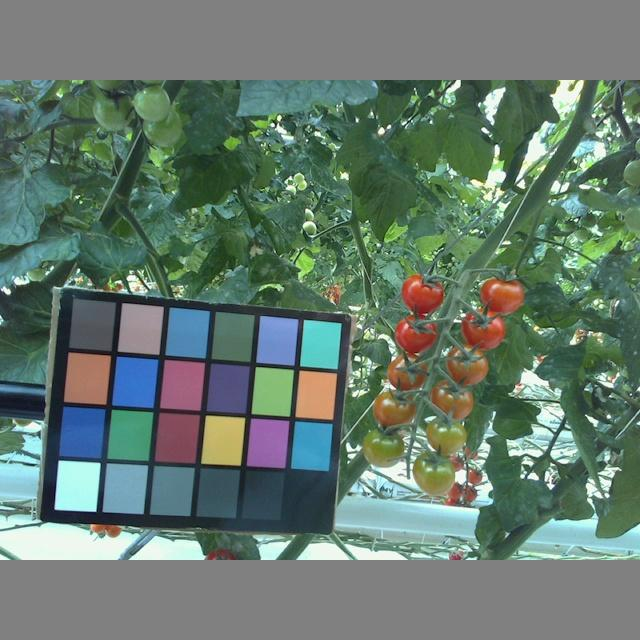green: (143, 108, 189, 150), (412, 453, 456, 495), (360, 430, 404, 470), (94, 92, 137, 130), (133, 88, 173, 125), (425, 420, 468, 454), (623, 159, 640, 187)
pink: (445, 345, 488, 386), (370, 393, 417, 429), (432, 381, 472, 423), (385, 354, 427, 388)
red: (480, 272, 525, 316), (459, 312, 508, 350), (401, 272, 443, 315), (394, 316, 439, 354)
